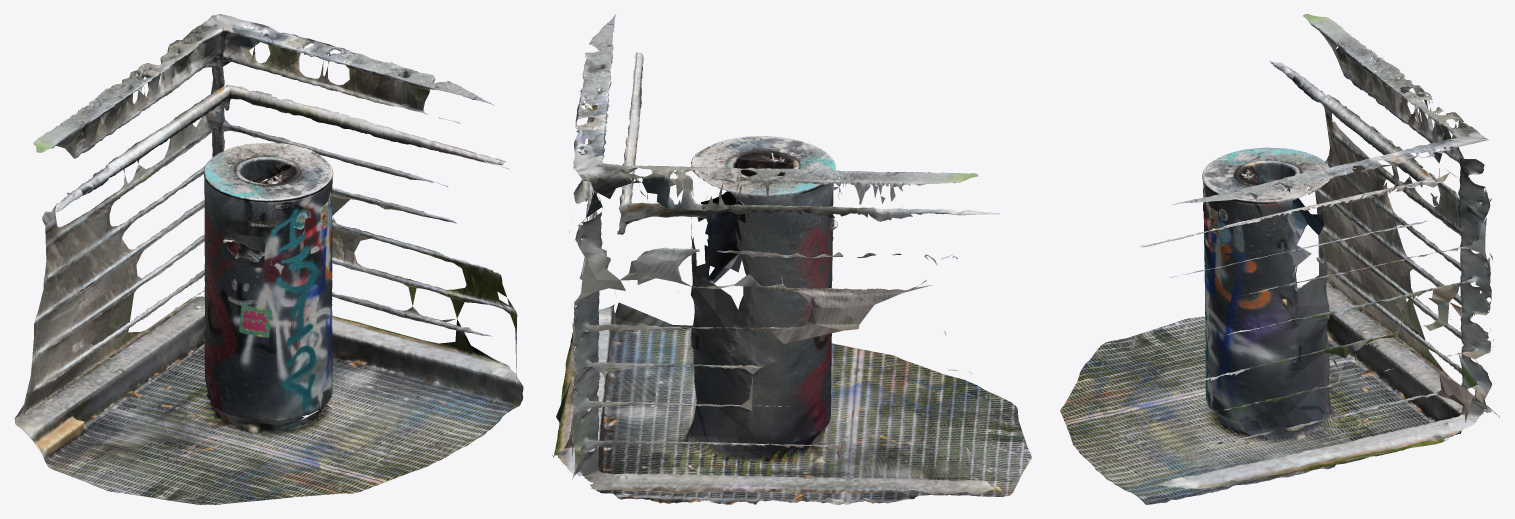
Rendered from muelleimer.glb.
3 views of the same model, side by side, from view 1: azimuth 30°, elevation 25°; view 2: azimuth 150°, elevation 25°; view 3: azimuth 270°, elevation 25° (orthographic). The views are drawn at different scales.
Visible parts, largest first — view 1: mesh; view 2: mesh; view 3: mesh.
Part boxes in pixels (box(x1,y1,x2,y2)): mesh: box(14, 14, 523, 504); mesh: box(552, 14, 1031, 504); mesh: box(1060, 14, 1499, 504).
Bounding box in the file's own units: 1.57 × 1.07 × 1.39.
Materials: 1 (1 with a texture image).
